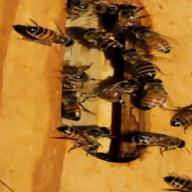Bee: (54, 119, 115, 152), (57, 1, 158, 19), (116, 53, 178, 78), (17, 24, 79, 48), (51, 64, 99, 94), (129, 30, 179, 56), (140, 80, 166, 116)
